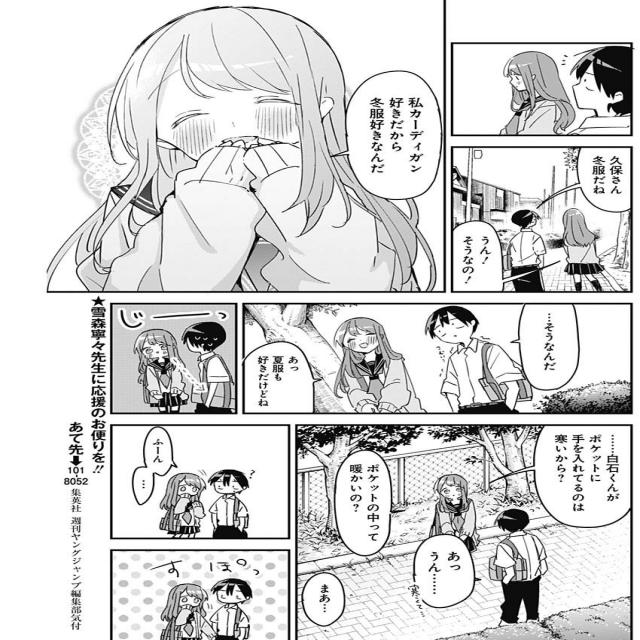Bubble: (342, 69, 443, 201), (532, 422, 635, 528), (336, 450, 393, 556), (516, 301, 581, 392), (240, 340, 316, 416), (408, 534, 478, 610), (449, 219, 506, 294), (576, 145, 633, 213), (304, 572, 347, 626), (140, 423, 178, 476), (130, 465, 157, 505)
